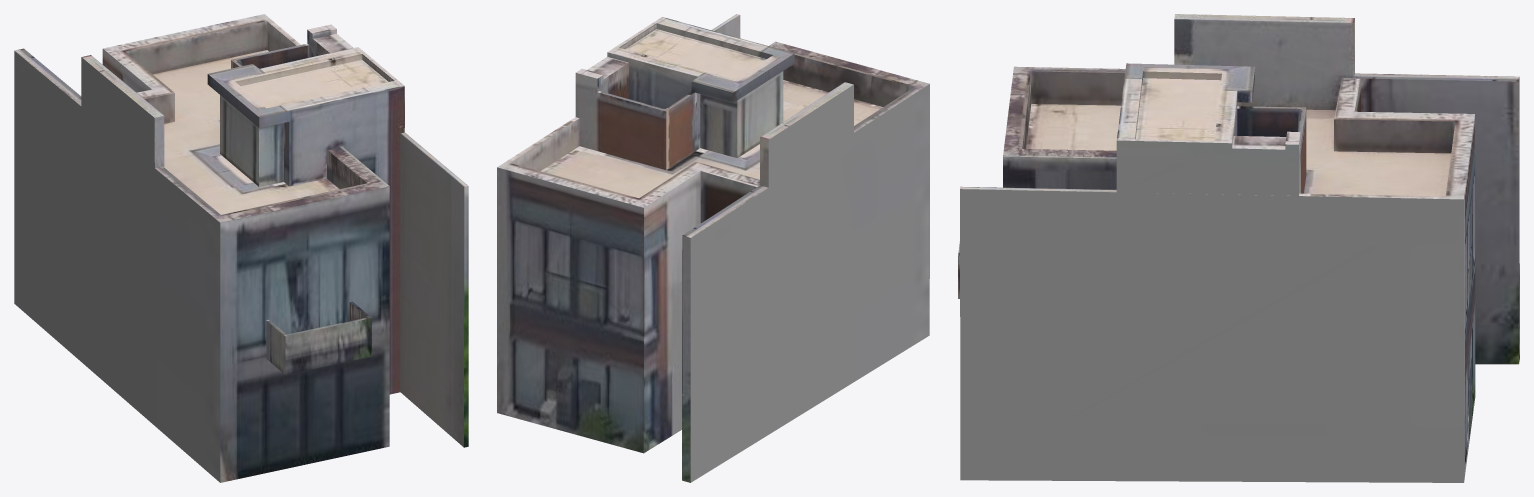
The picture shows the model from 3 angles, left to right: view 1: azimuth 30°, elevation 25°; view 2: azimuth 150°, elevation 25°; view 3: azimuth 270°, elevation 25°; orthographic projection. The views are drawn at different scales.
Visible parts, largest first — view 1: B285664030001062A0; view 2: B285664030001062A0; view 3: B285664030001062A0.
Boxes of the visible parts, box(x1,y1,x2,y2) form: B285664030001062A0: box(14, 14, 468, 482); B285664030001062A0: box(497, 14, 929, 482); B285664030001062A0: box(958, 14, 1519, 482).
Size of the model in its own units: 9.28 by 11.23 by 16.43.
Materials: 1 (1 with a texture image).
